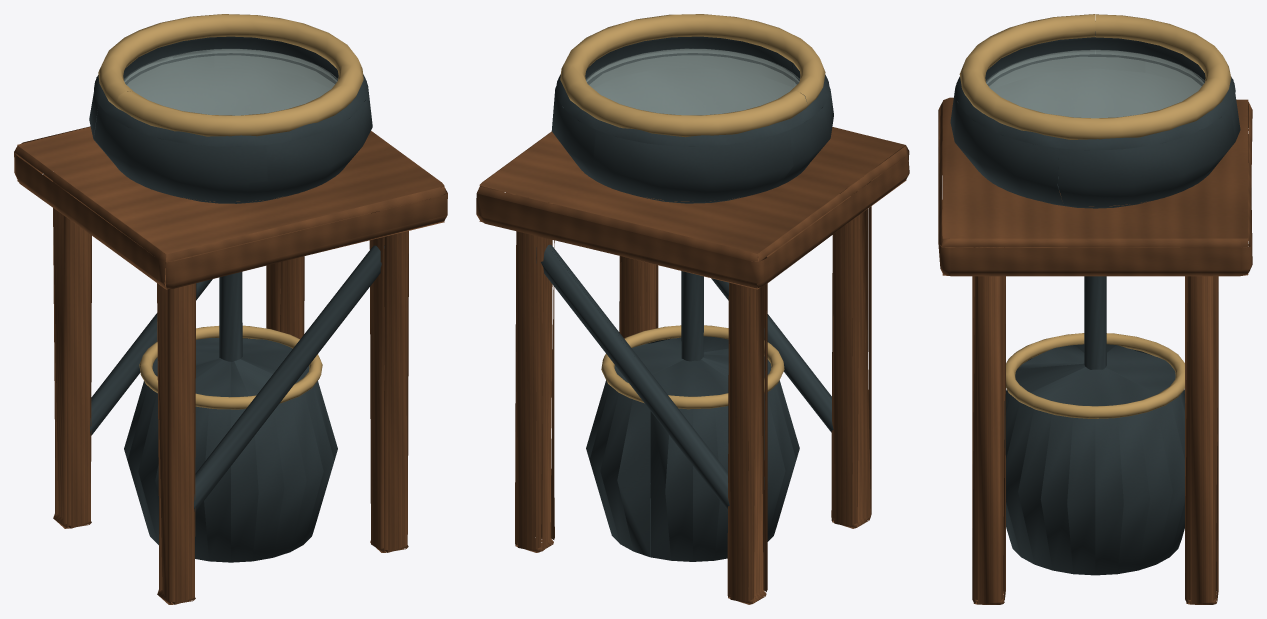
File: wash_station.glb
3 renders of one model, left to right at view 1: azimuth 30°, elevation 25°; view 2: azimuth 150°, elevation 25°; view 3: azimuth 270°, elevation 25°, orthographic. The views are drawn at different scales.
Parts seen in each view (by area): view 1: Wash Station; view 2: Wash Station; view 3: Wash Station.
Boxes of the visible parts, x1,y1,x2,y2 form: Wash Station: (14, 14, 447, 604); Wash Station: (476, 14, 909, 604); Wash Station: (938, 14, 1252, 604).
Size of the model in its own units: 0.7 by 1.1 by 0.65.
Materials: 4 (2 with a texture image).
